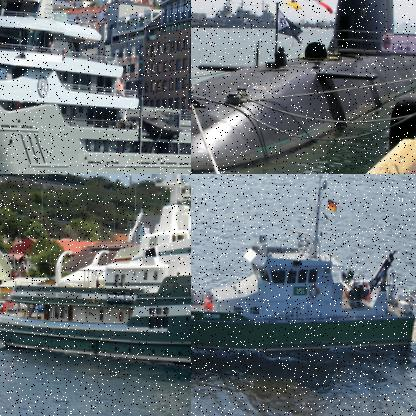Patrol Boat: (191, 174, 415, 358)
Submarine: (191, 0, 415, 173)
Yacht: (0, 174, 190, 379), (0, 0, 190, 173)
